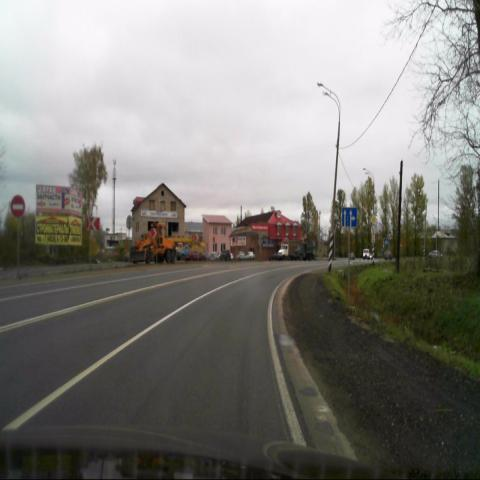3_1: (10, 194, 24, 218)
5_15_2_2: (342, 208, 358, 227)
